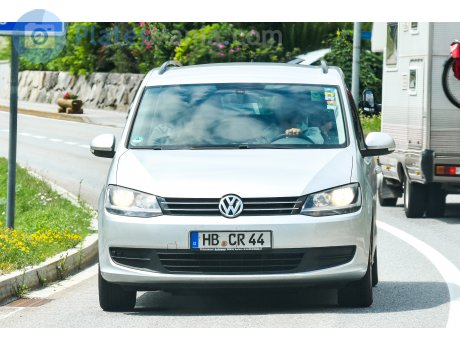License Plates: (197, 232, 272, 244)
